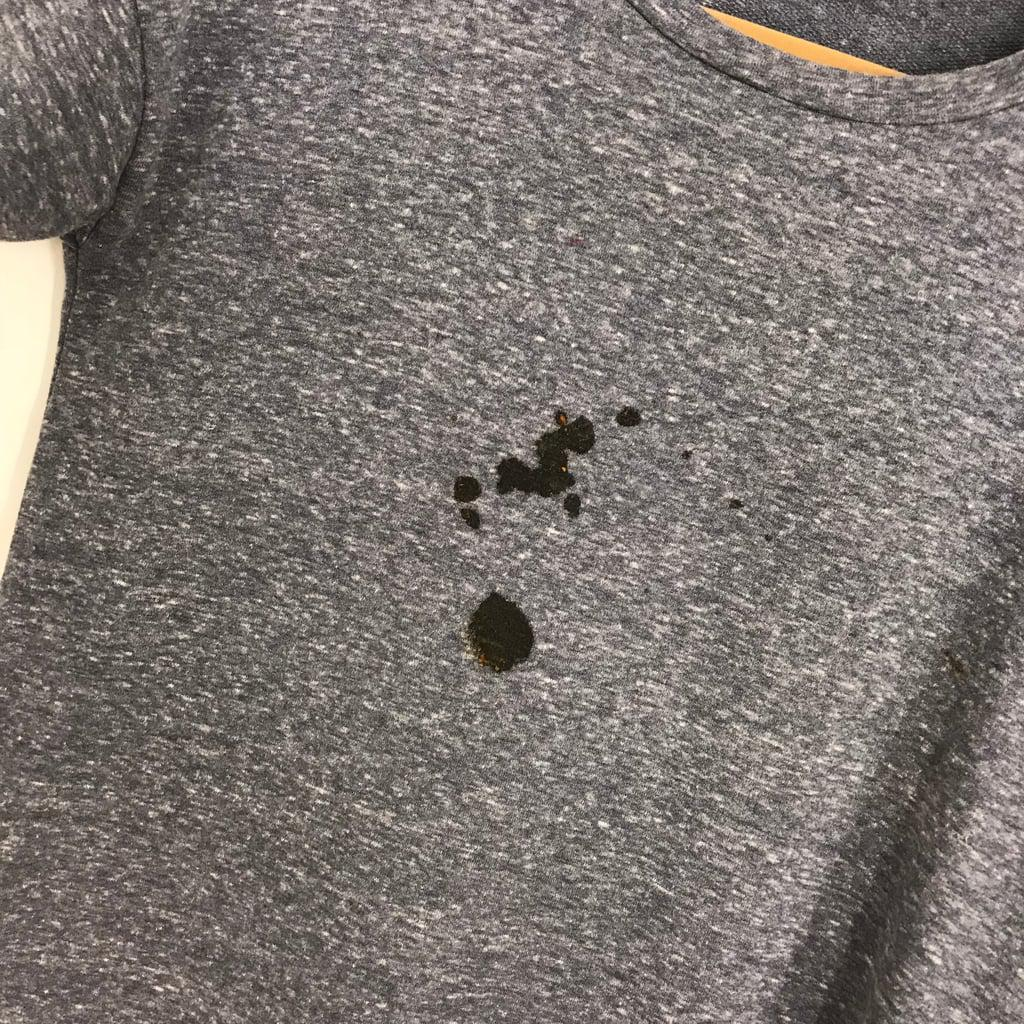gun: (450, 395, 658, 533), (463, 586, 559, 683)
